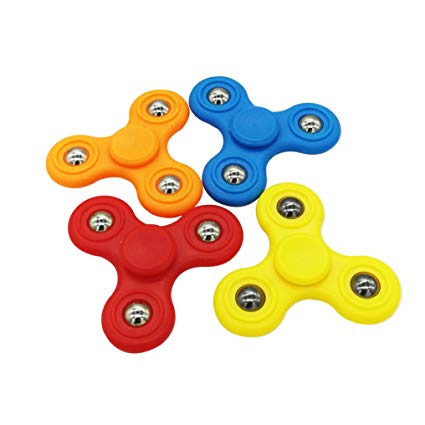fidget kid spinner toys: (25, 199, 236, 356), (212, 173, 398, 341), (190, 65, 371, 207), (25, 72, 202, 215)
